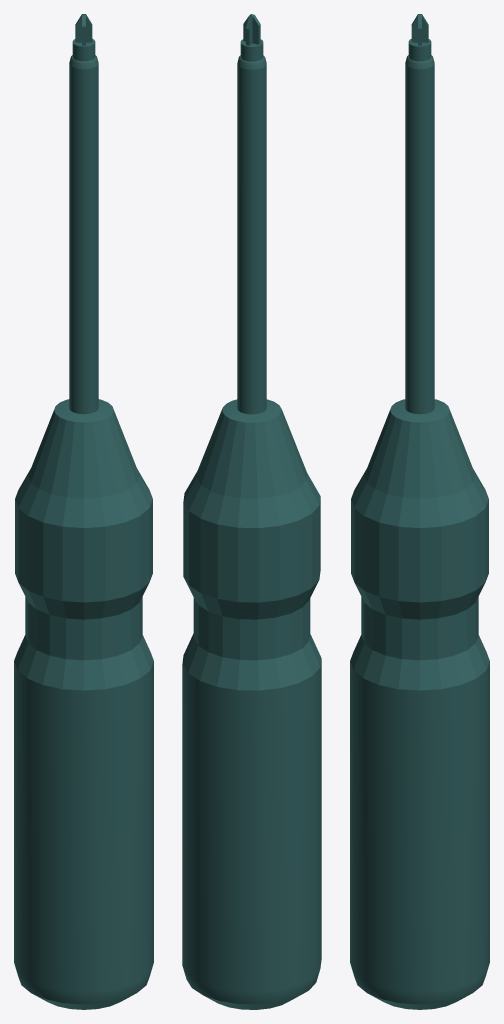
The model's file is screwdriver low.fbx.
3 views of the same model, side by side, from view 1: azimuth 90°, elevation 25°; view 2: azimuth 150°, elevation 25°; view 3: azimuth 270°, elevation 25° (orthographic).
Parts seen in each view (by area): view 1: screwdriver_01_low, screwdriver_02_low, screwdriver_03_low, screwdriver_04_low; view 2: screwdriver_01_low, screwdriver_02_low, screwdriver_03_low, screwdriver_04_low; view 3: screwdriver_01_low, screwdriver_02_low, screwdriver_03_low, screwdriver_04_low.
Part boxes in pixels (x1,y1,x2,y2): screwdriver_01_low: [14, 399, 153, 1009]; screwdriver_02_low: [69, 55, 98, 414]; screwdriver_03_low: [75, 14, 92, 45]; screwdriver_04_low: [72, 38, 95, 61]; screwdriver_01_low: [182, 399, 321, 1009]; screwdriver_02_low: [237, 55, 266, 414]; screwdriver_03_low: [243, 14, 260, 45]; screwdriver_04_low: [240, 39, 263, 61]; screwdriver_01_low: [350, 399, 489, 1009]; screwdriver_02_low: [405, 55, 434, 414]; screwdriver_03_low: [411, 14, 428, 45]; screwdriver_04_low: [408, 39, 431, 61].
Bounding box in the file's own units: 3.44 × 26.48 × 3.44.
